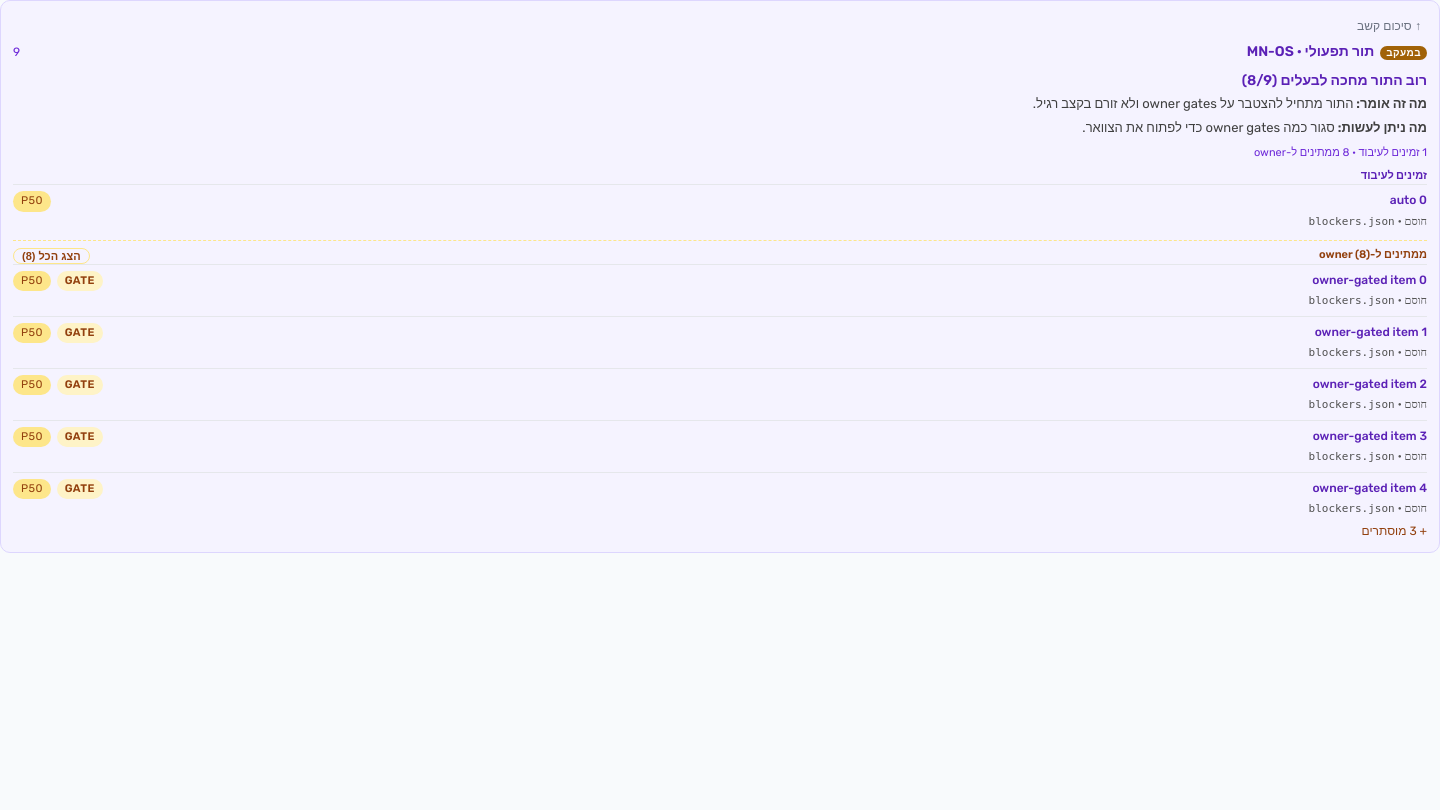
Test case: OperationalQueueCard owner-gated collapse › expanding the toggle reveals hidden owner-gated items
This screenshot has width=1440, height=810.
Click the button "הצג הכל (8)". click: (51, 256)
box: [13,248,90,264]
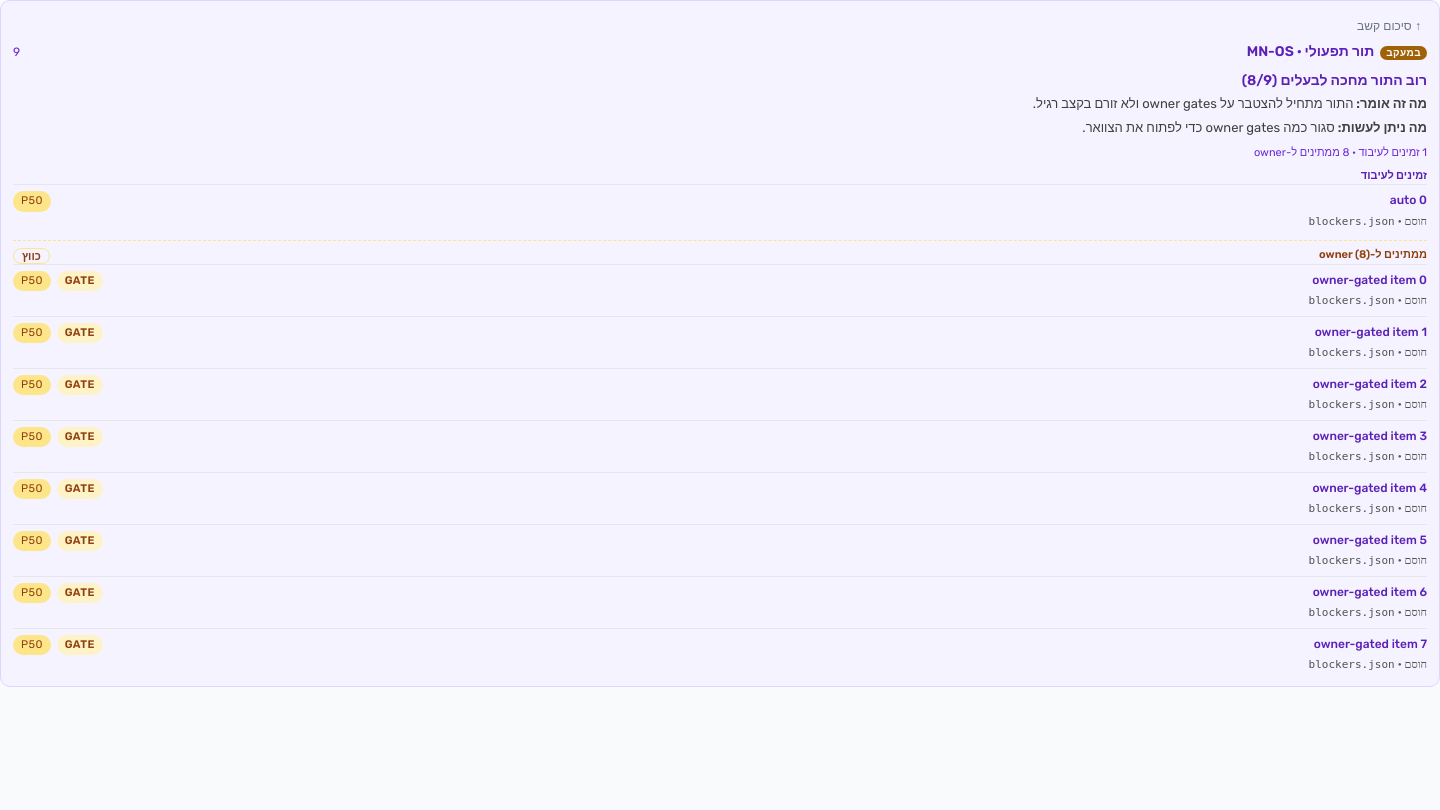
expect the button "כווץ" is expanded: met, box [13,248,50,264]
expect the text "מוסתרים" is gone: met
